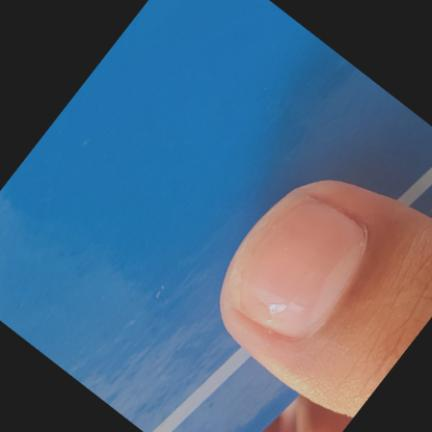Nail: (230, 191, 366, 339)
